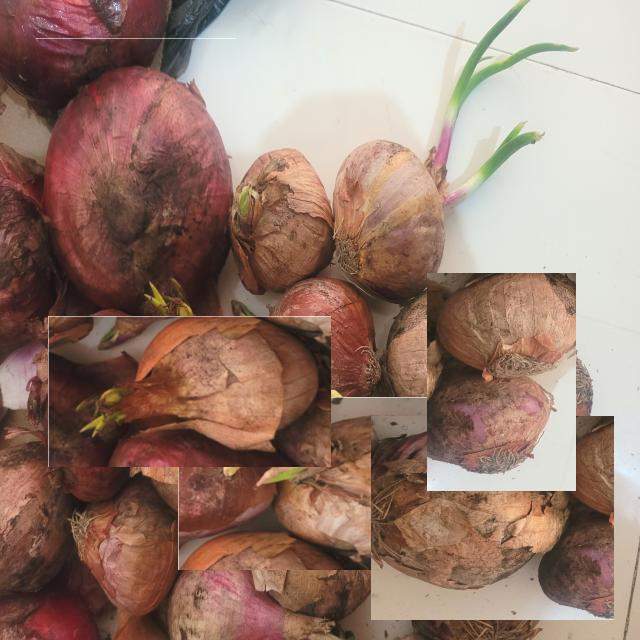rotten: (44, 67, 232, 310), (373, 436, 568, 588), (168, 532, 370, 639), (71, 476, 177, 615), (437, 274, 574, 380), (429, 368, 551, 473), (0, 441, 73, 595)
sprouting: (334, 0, 575, 300)
